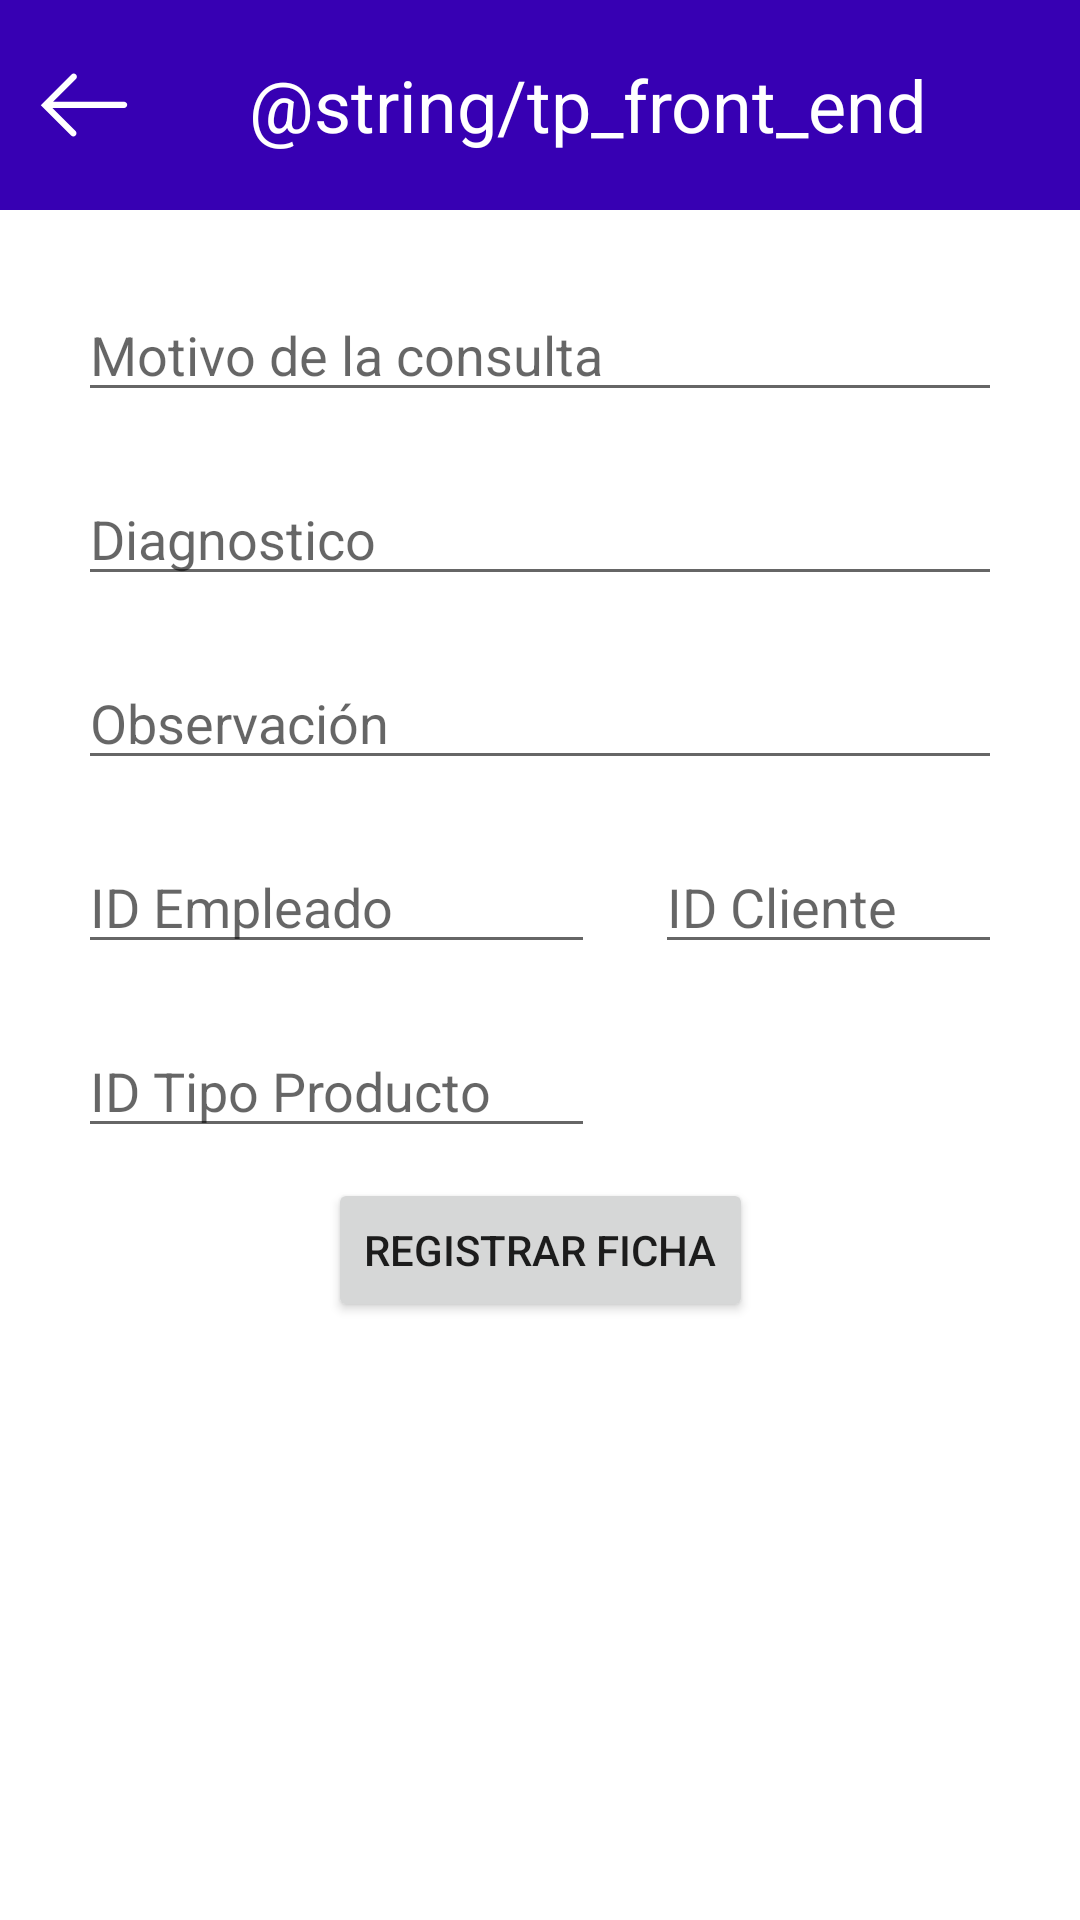

Icons on this 1080px x 1920px Android screen, each with its box as (x1, y1, x2, y2):
arrow back: (41, 73, 128, 137)
